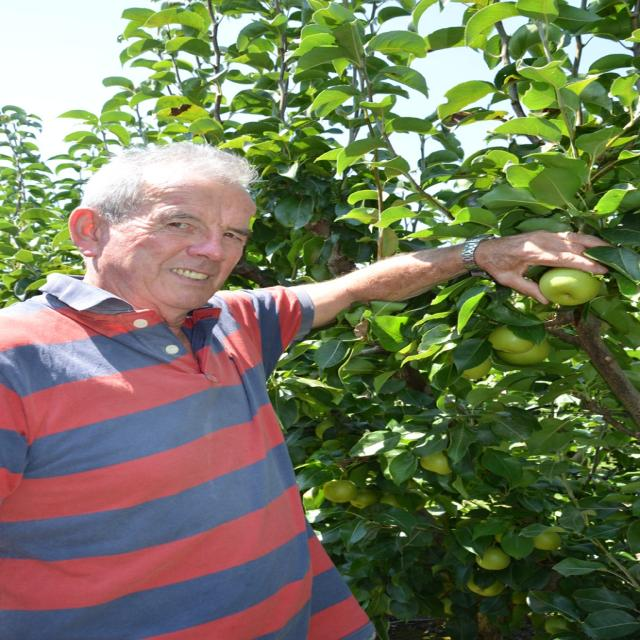Healty Apple: (538, 264, 598, 308), (499, 337, 550, 366), (484, 326, 532, 352), (418, 451, 456, 477), (469, 572, 505, 596), (350, 482, 381, 508), (478, 546, 510, 571), (324, 482, 358, 504), (378, 224, 399, 258), (464, 358, 493, 381), (532, 530, 561, 550), (543, 618, 568, 634), (381, 495, 406, 510), (498, 527, 520, 544), (441, 596, 453, 616)
